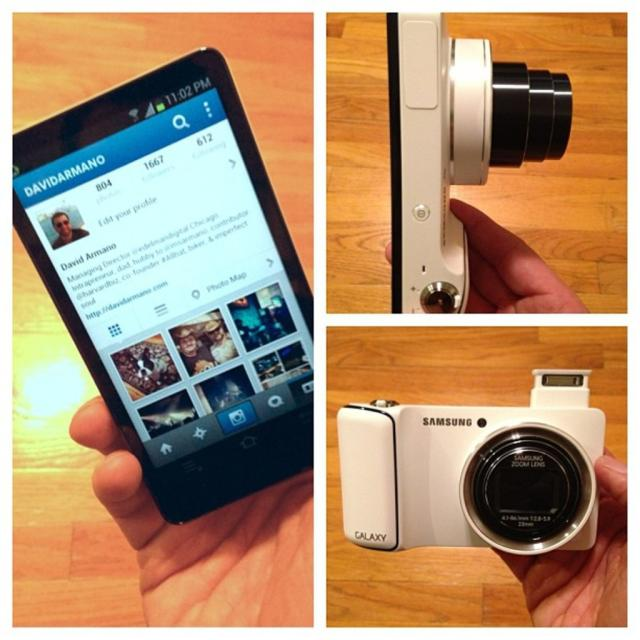Mobile-phone: (13, 45, 312, 524)
